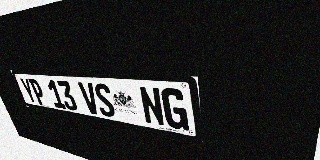1: (45, 80, 66, 109)
3: (56, 80, 78, 111)
G: (160, 88, 189, 131)
N: (138, 86, 166, 127)
P: (28, 78, 48, 106)
S: (92, 83, 117, 118)
V: (78, 82, 101, 115)
Y: (19, 78, 38, 104)
